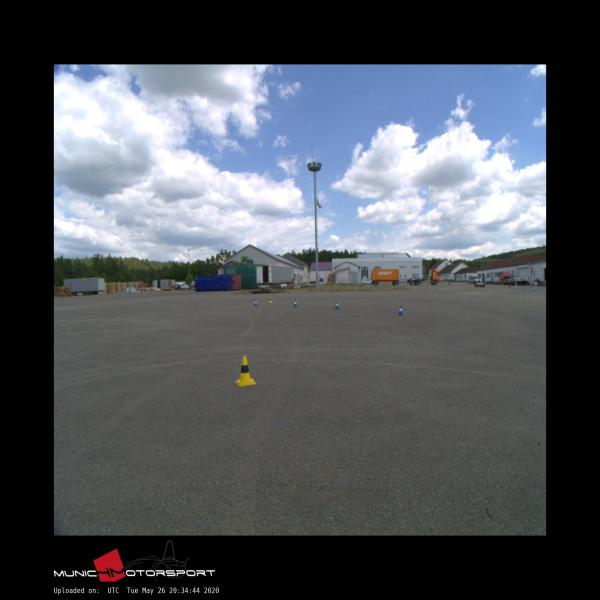blue_cone: (293, 299, 298, 307), (334, 301, 339, 309), (398, 306, 403, 314), (254, 299, 258, 306)
yellow_cone: (234, 355, 254, 386), (269, 297, 273, 303)
